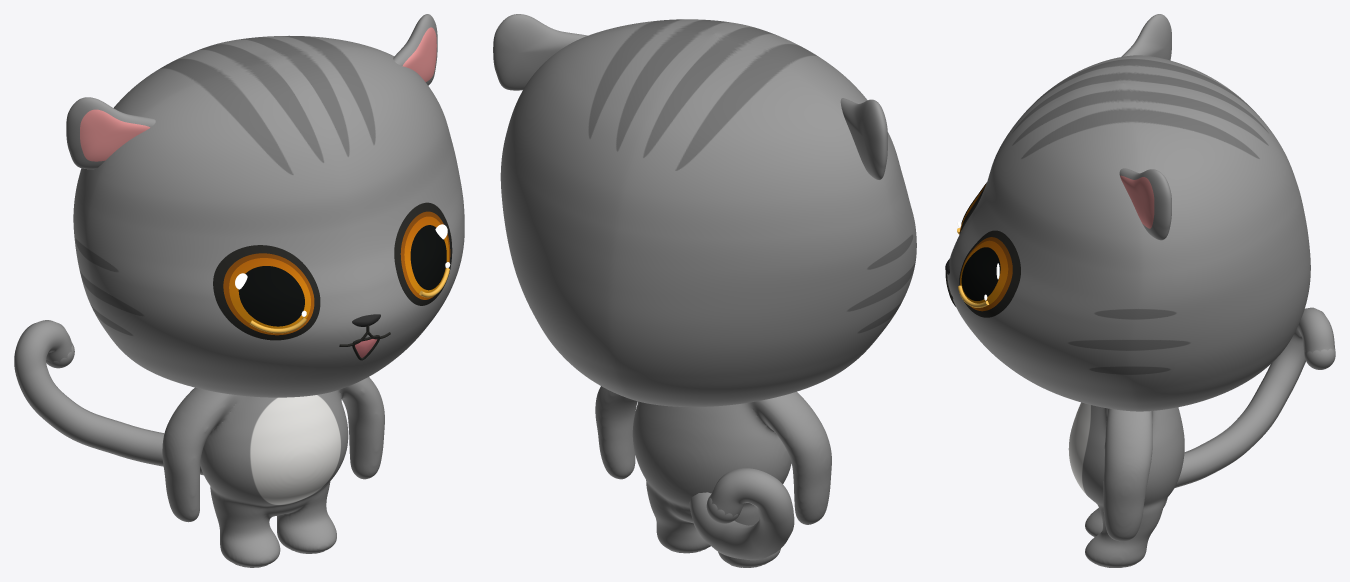
Rendered from CatGray_IP.glb.
The picture shows the model from 3 angles, left to right: view 1: azimuth 30°, elevation 25°; view 2: azimuth 150°, elevation 25°; view 3: azimuth 270°, elevation 25°; orthographic projection. The views are drawn at different scales.
Parts seen in each view (by area): view 1: Head • continuous shaped surface.001, Body • continuous bare skin and painted oval belly.001, Tail • continuous upright curl.001, Ear L • soft rounded shell and inset pink.001, Eye L • pupil.001, Eye L • charcoal socket.001, Ear R • soft rounded shell and inset pink.001, Eye R • pupil.001, Eye L • orange iris.001, Eye R • charcoal socket.001, Eye L • amber outer edge.001, Eye R • orange iris.001 (+1 smaller); view 2: Head • continuous shaped surface.001, Body • continuous bare skin and painted oval belly.001, Tail • continuous upright curl.001, Ear R • soft rounded shell and inset pink.001, Ear L • soft rounded shell and inset pink.001; view 3: Head • continuous shaped surface.001, Body • continuous bare skin and painted oval belly.001, Tail • continuous upright curl.001, Ear R • soft rounded shell and inset pink.001, Eye R • pupil.001, Ear L • soft rounded shell and inset pink.001, Eye R • charcoal socket.001, Eye R • orange iris.001, Eye R • amber outer edge.001, Tail • rounded tip.001.
Boxes of the visible parts, <box> form: Head • continuous shaped surface.001: <box>73,35,464,397</box>; Body • continuous bare skin and painted oval belly.001: <box>162,377,384,567</box>; Tail • continuous upright curl.001: <box>14,320,203,475</box>; Ear L • soft rounded shell and inset pink.001: <box>66,97,155,169</box>; Eye L • pupil.001: <box>238,266,304,326</box>; Eye L • charcoal socket.001: <box>213,245,320,340</box>; Ear R • soft rounded shell and inset pink.001: <box>393,14,437,85</box>; Eye R • pupil.001: <box>410,225,446,290</box>; Eye L • orange iris.001: <box>229,258,310,328</box>; Eye R • charcoal socket.001: <box>394,202,452,305</box>; Eye L • amber outer edge.001: <box>223,253,314,335</box>; Eye R • orange iris.001: <box>404,216,448,293</box>; Head • continuous shaped surface.001: <box>500,19,916,406</box>; Body • continuous bare skin and painted oval belly.001: <box>595,386,831,567</box>; Tail • continuous upright curl.001: <box>689,468,794,560</box>; Ear R • soft rounded shell and inset pink.001: <box>493,14,587,90</box>; Ear L • soft rounded shell and inset pink.001: <box>840,98,887,179</box>; Head • continuous shaped surface.001: <box>947,55,1310,411</box>; Body • continuous bare skin and painted oval belly.001: <box>1068,402,1184,567</box>; Tail • continuous upright curl.001: <box>1174,307,1335,488</box>; Ear R • soft rounded shell and inset pink.001: <box>1119,168,1171,240</box>; Eye R • pupil.001: <box>961,247,1000,300</box>; Ear L • soft rounded shell and inset pink.001: <box>1121,14,1171,60</box>; Eye R • charcoal socket.001: <box>959,230,1020,317</box>; Eye R • orange iris.001: <box>960,240,1008,305</box>; Eye R • amber outer edge.001: <box>960,237,1012,311</box>; Tail • rounded tip.001: <box>1304,348,1335,369</box>.
Bounding box in the file's own units: 3.61 × 4.57 × 3.49.
12 materials, 2 textured.
